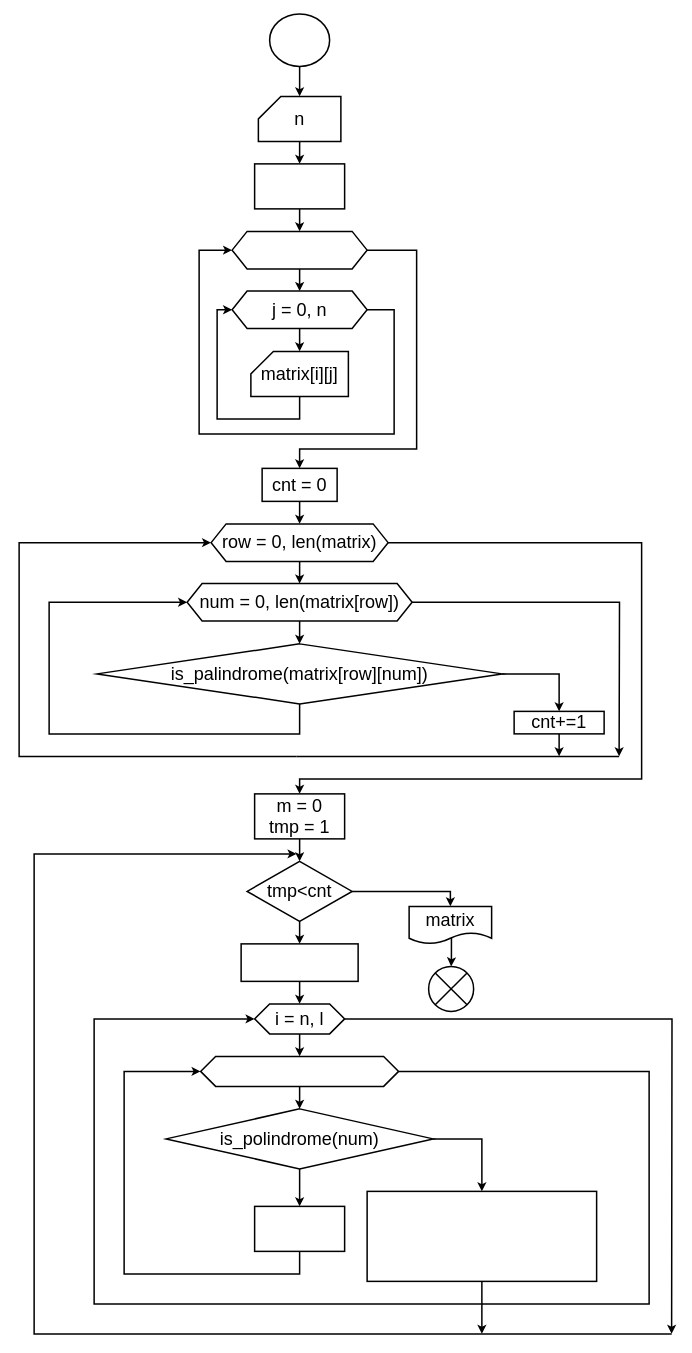
Image size: 692x1353. Some labels were removed from this diagram. The shapes that lost their labels are listed below. From the top down, each one's box as (x1, y1, x2, y2) in pixels, then its label:
(254, 163, 345, 209): matrix = []
(231, 230, 368, 269): i = 0, n
(240, 943, 358, 982): l = len(matrix)
(200, 1055, 399, 1087): for num in matrix[i]
(254, 1205, 345, 1252): m+=1
(366, 1190, 597, 1282): matrix.insert(i, matrix[0]) tmp+=1 m+=2 l = len(matrix)
